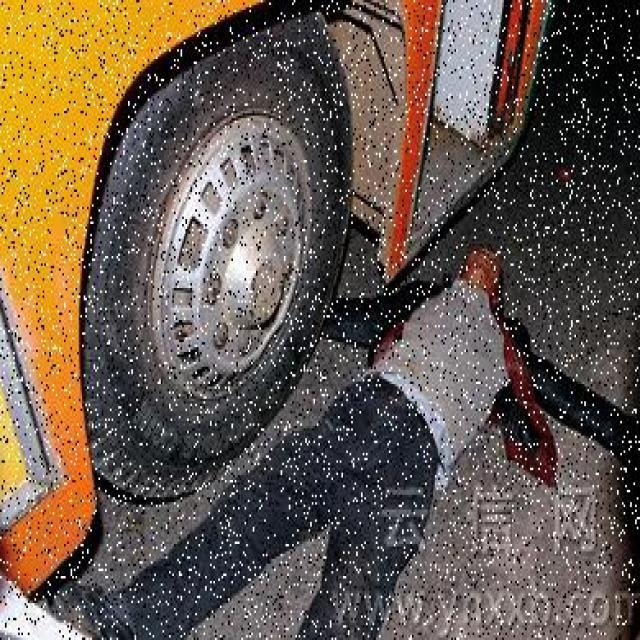fall: (334, 238, 546, 632)
